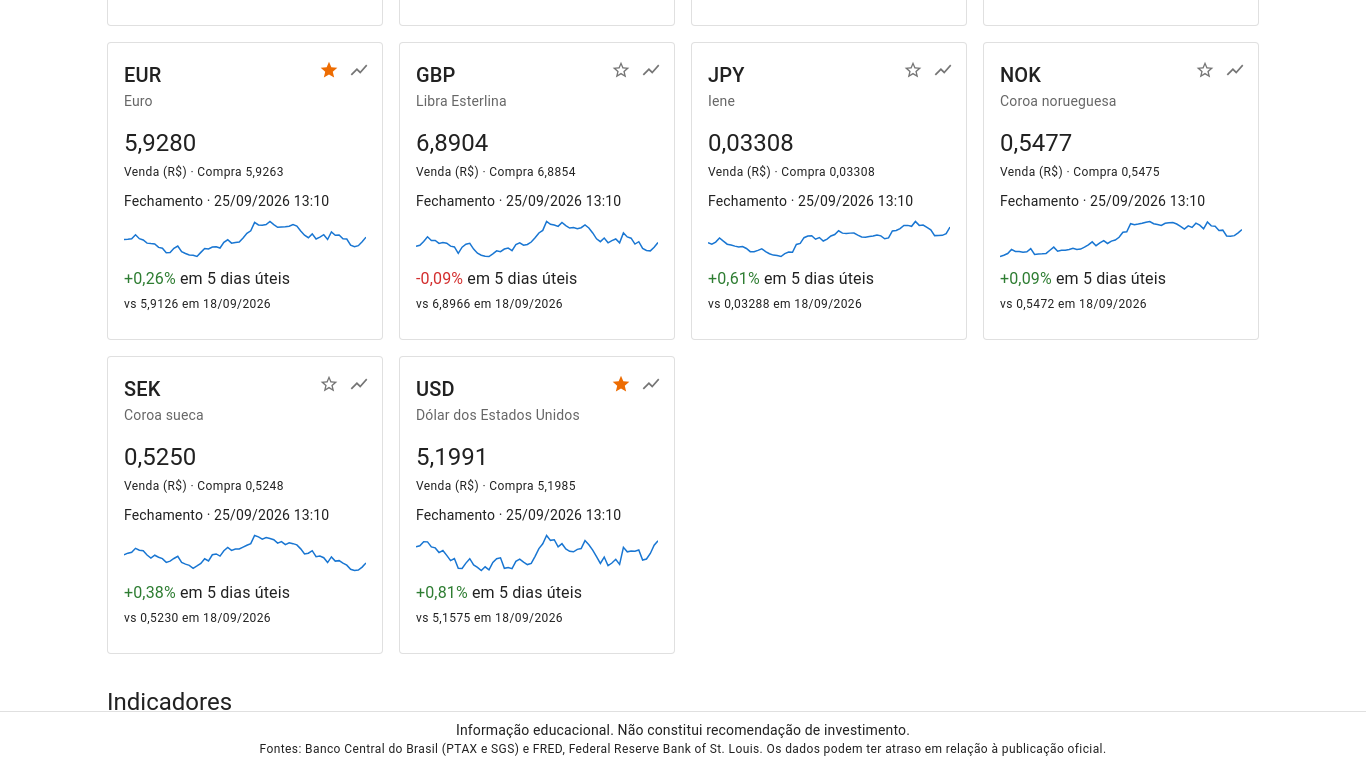
Test: App › should load the chart modal code only when the user opens a chart
This screenshot has width=1366, height=768.
(page scrolled)
Click the button named "Ver gráfico de USD".
click(651, 384)  # box [636,369,666,399]
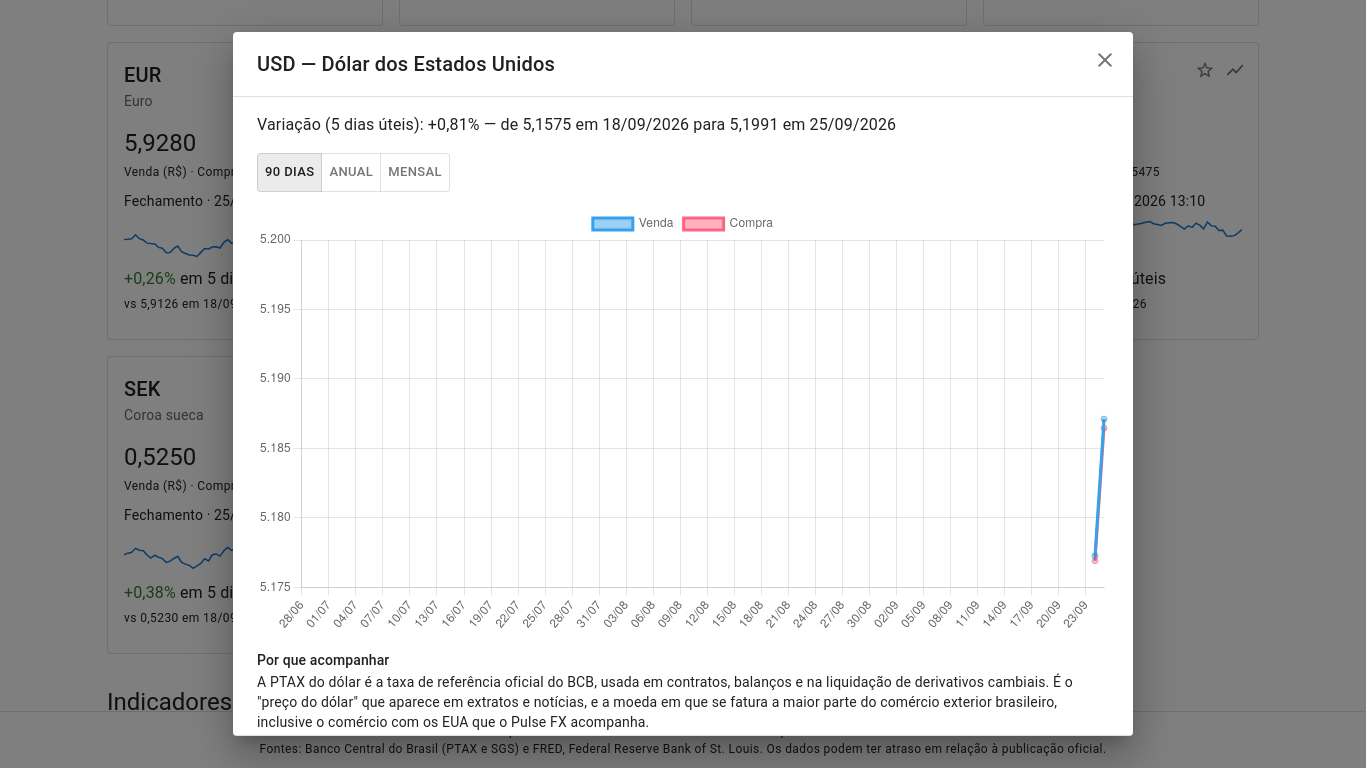
Expected: the dialog "USD — Dólar dos Estados Unidos" is shown
